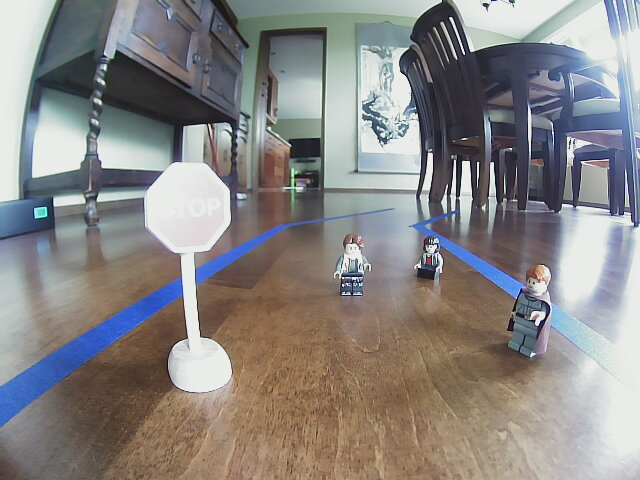StopSign: (148, 164, 230, 250)
person: (503, 265, 556, 358), (328, 225, 380, 302), (412, 235, 445, 282)
